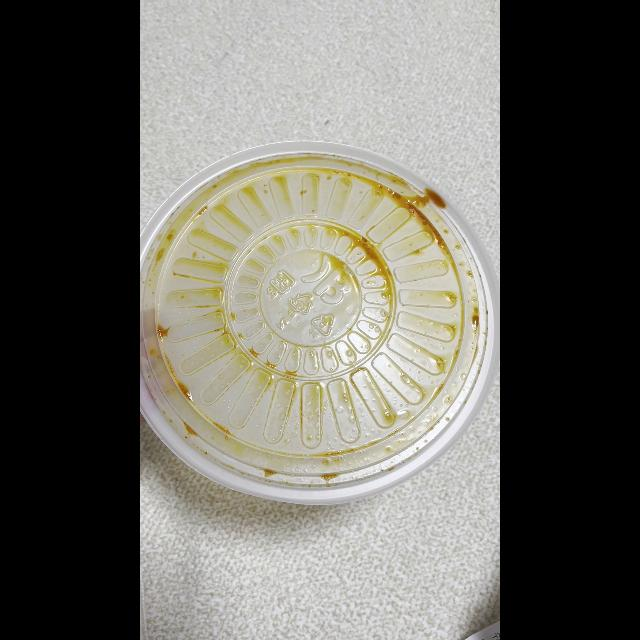dirty: (142, 156, 496, 498)
